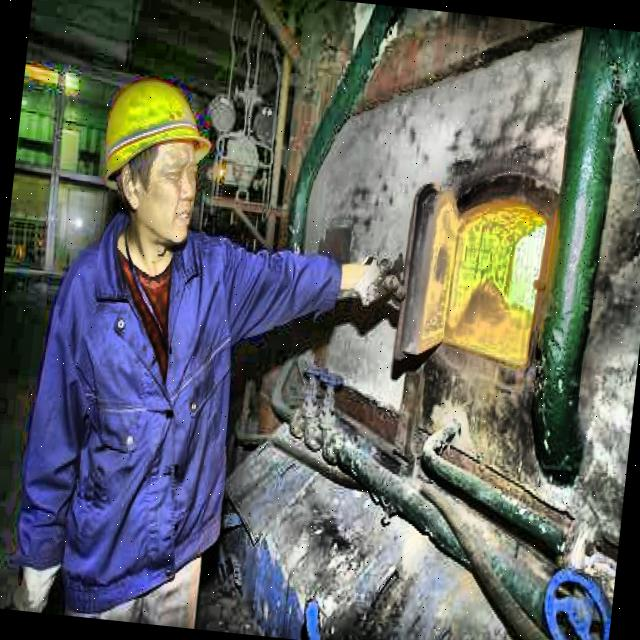helmet: (78, 54, 223, 260)
